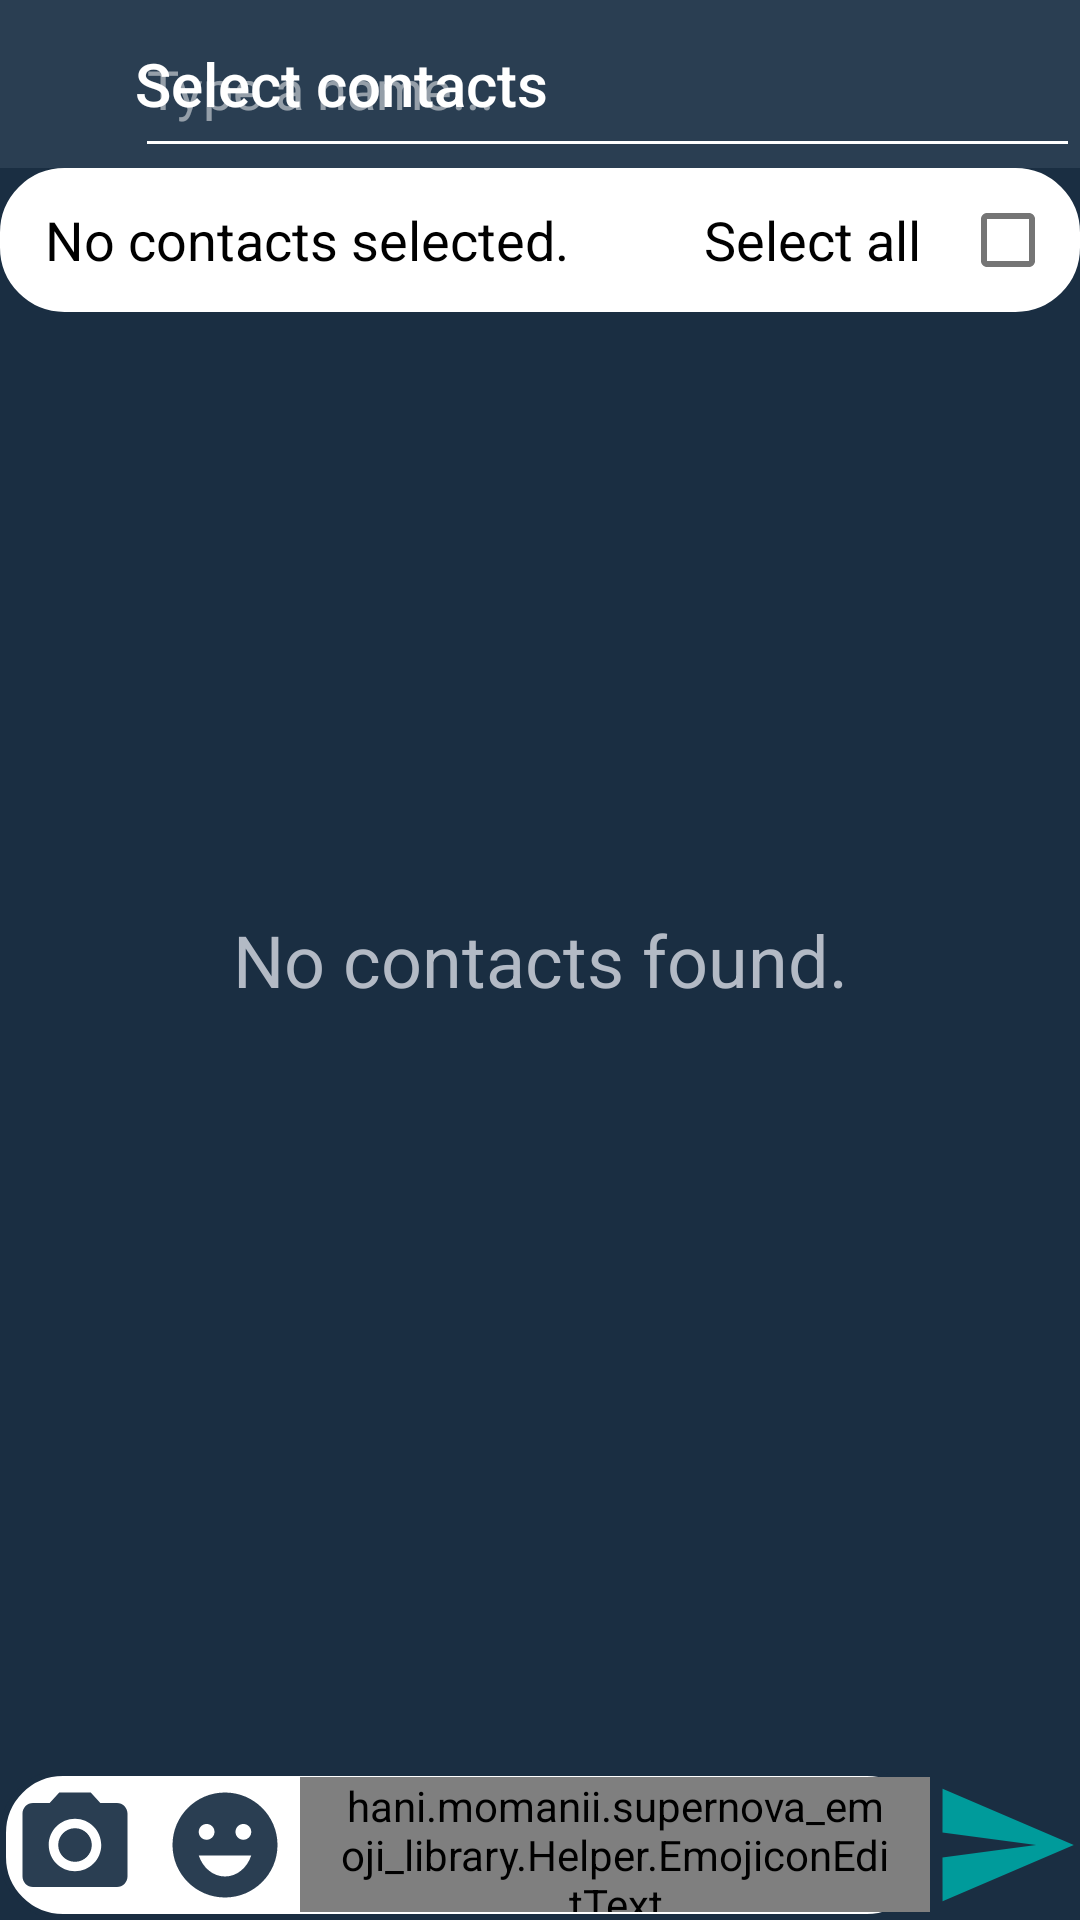

Where to tap for icons on this 1080 × 1920 app screen, as [x,y]:
emoji emotions: [225,1845]
photo camera: [75,1845]
send: [1007,1845]
